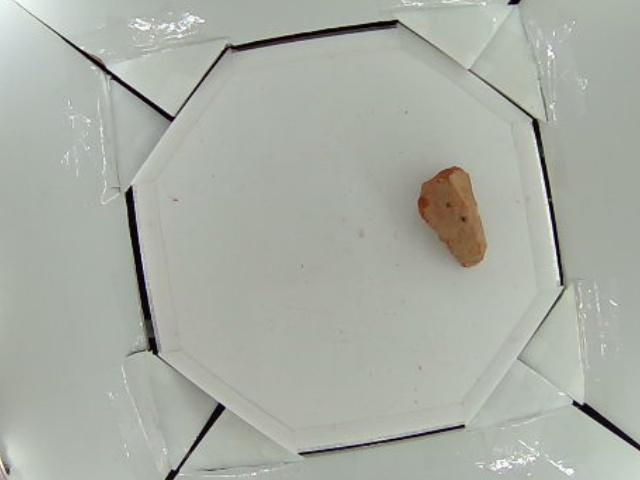Brisk: (416, 165, 490, 270)
